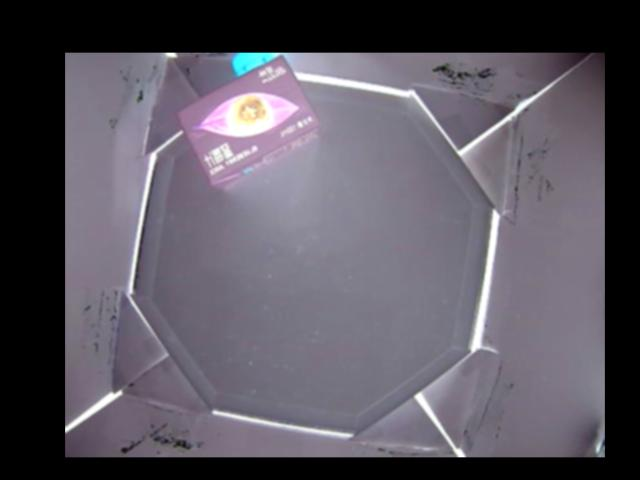Bottle: (174, 53, 318, 190)
